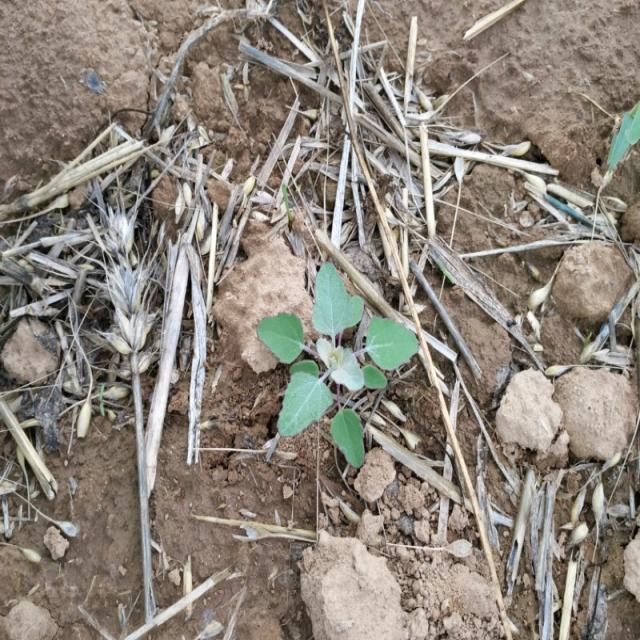goosefoots: (252, 266, 442, 459)
